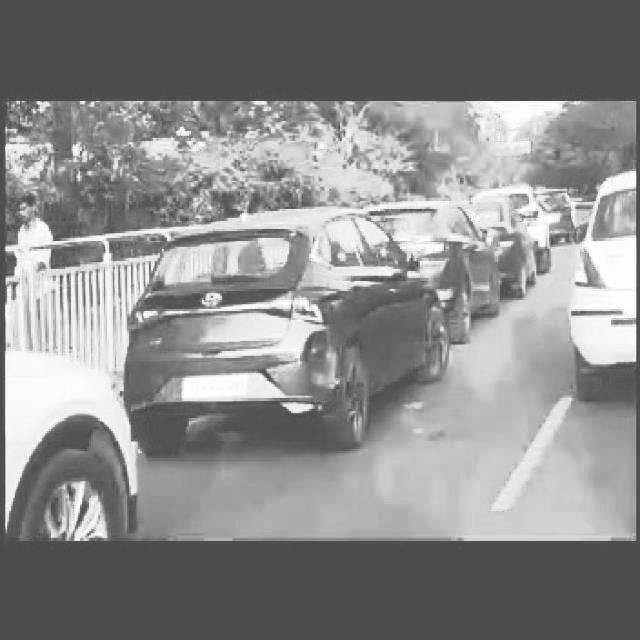Car: (135, 234, 415, 454), (6, 342, 130, 522), (585, 180, 639, 376), (413, 207, 479, 293), (482, 209, 531, 295), (540, 180, 569, 226), (508, 185, 537, 223)
